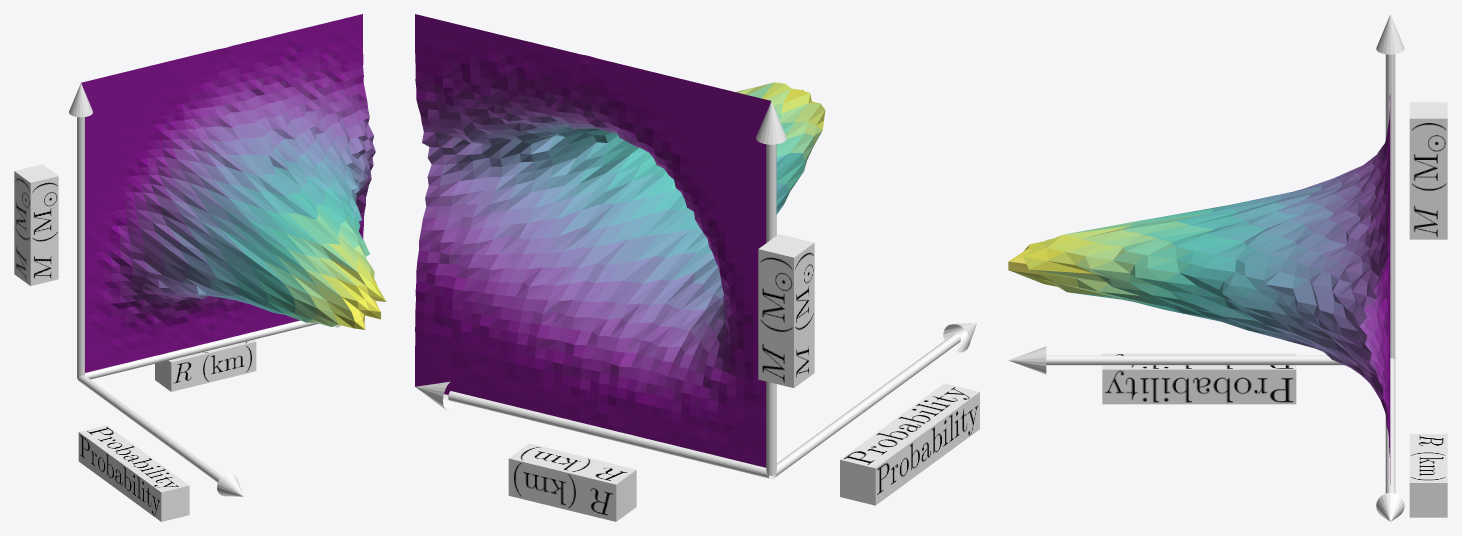
3 renders of one model, left to right at view 1: azimuth 30°, elevation 25°; view 2: azimuth 150°, elevation 25°; view 3: azimuth 270°, elevation 25°, orthographic. The views are drawn at different scales.
Parts seen in each view (by area): view 1: test; view 2: test; view 3: test.
Part boxes in pixels (x1=…): test: x1=14, y1=14, x2=386, y2=521; test: x1=415, y1=14, x2=979, y2=521; test: x1=1008, y1=14, x2=1447, y2=521.
Bounding box in the file's own units: 1.15 × 1.15 × 1.15.
214 materials, 3 textured.
